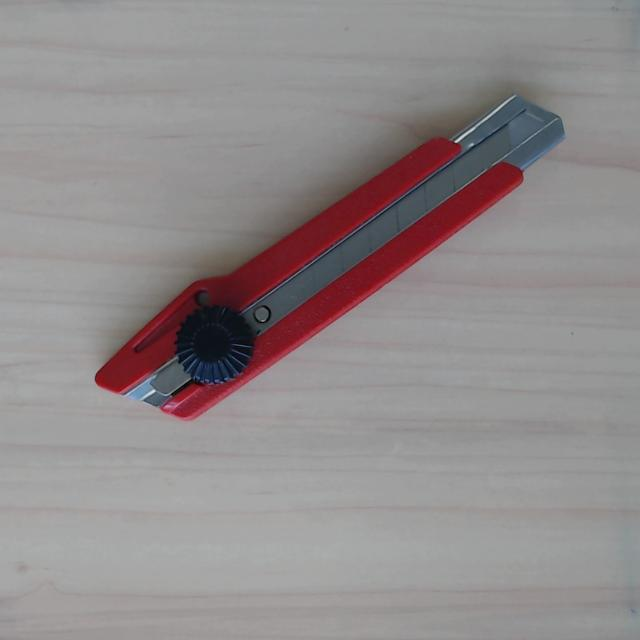Cutter-Besar: (81, 56, 581, 454)
